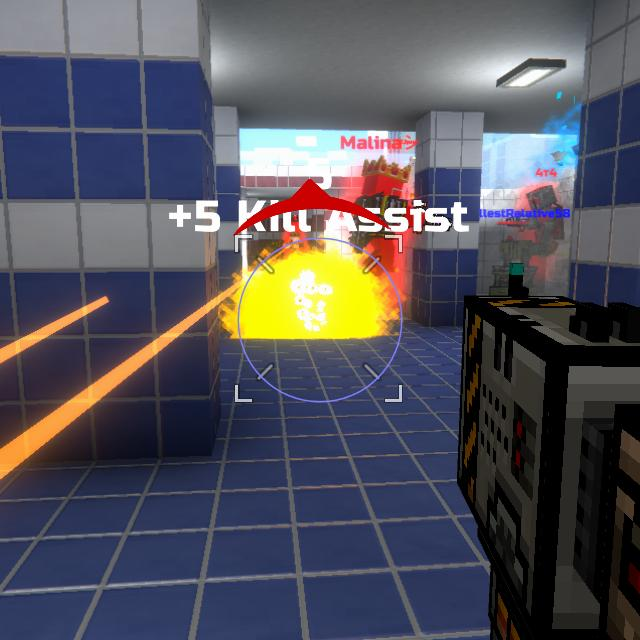Enemy: (351, 163, 426, 277), (525, 185, 560, 257), (286, 232, 304, 253)
